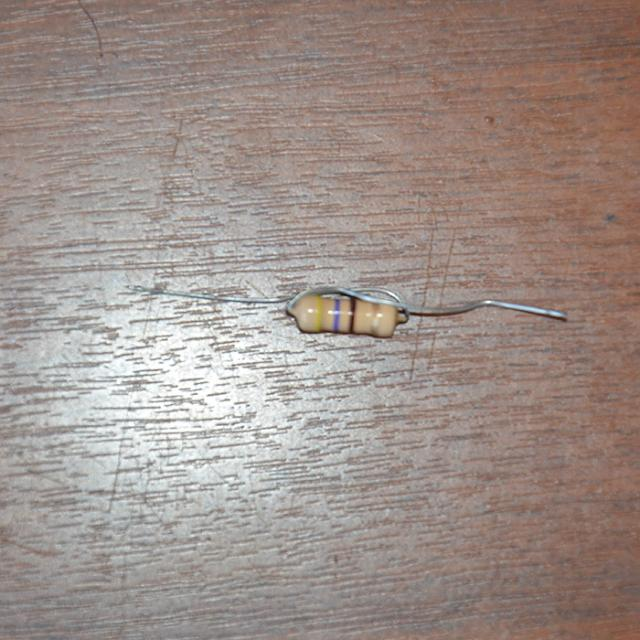brown: (348, 295, 357, 331)
gold: (370, 303, 381, 335)
resistor: (284, 286, 414, 344)
violet: (333, 295, 341, 331)
yellow: (315, 294, 321, 330)
